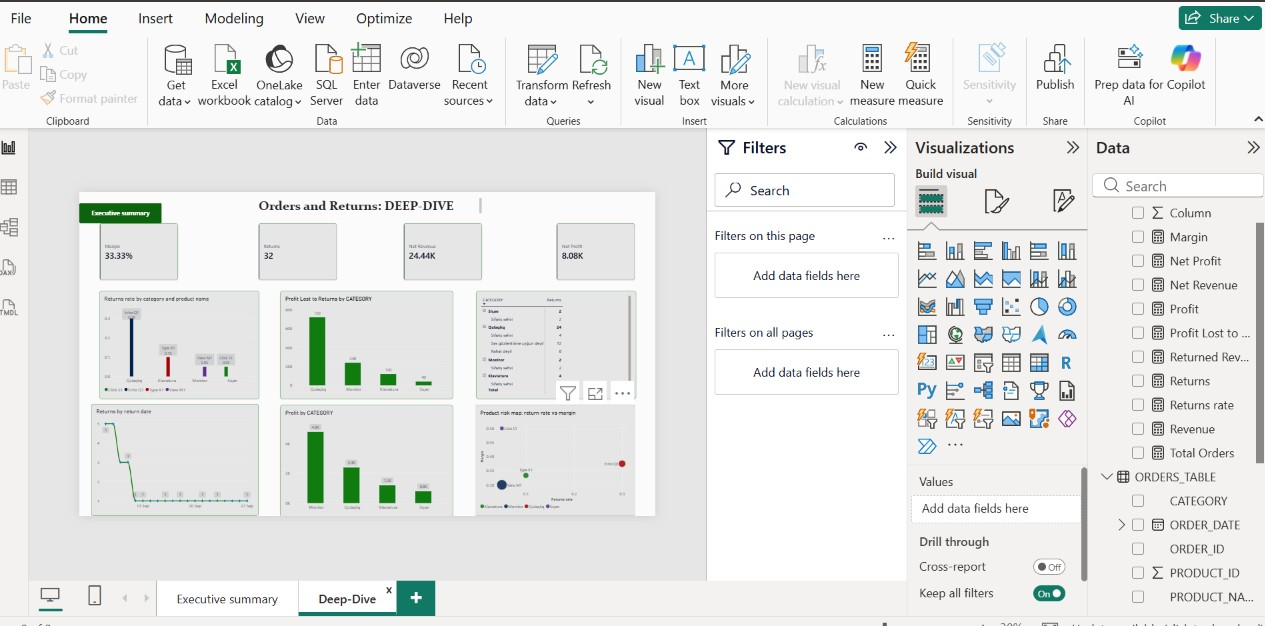

Layout of this report page (visuals, bound fields, positions):
{"tool":"powerbi","page":{"name":"Deep-Dive","canvas":[1920,1080],"ordinal":1},"visuals":[{"type":"textbox","box":[598.1,19.8,745.5,130.4],"z":0},{"type":"cardVisual","fields":{"Data":["Hesablamalar.Marja"]},"box":[65.2,104.9,263.6,192.8],"z":1},{"type":"cardVisual","fields":{"Data":["Hesablamalar.Returns"]},"box":[598.1,104.9,263.6,192.8],"z":3},{"type":"cardVisual","fields":{"Data":["Hesablamalar.Xalis gəlir"]},"box":[1080,104.9,263.6,192.8],"z":4},{"type":"cardVisual","fields":{"Data":["Hesablamalar.Xalis mənfəət"]},"box":[1590.2,104.9,263.6,192.8],"z":5},{"type":"pivotTable","fields":{"Rows":["ORDERS_TABLE.CATEGORY","returns.reason"],"Values":["Hesablamalar.Returns"]},"box":[1322.4,330.6,532.5,360],"z":6},{"type":"lineChart","title":"Returns  by return date","fields":{"Category":["returns.return_date"],"Y":["Hesablamalar.Returns"]},"box":[40,707.5,557.5,372.5],"z":7},{"type":"clusteredColumnChart","title":"Returns rate by category and product name","fields":{"Category":["ORDERS_TABLE.CATEGORY"],"Series":["ORDERS_TABLE.PRODUCT_NAME"],"Y":["Hesablamalar.Returns rate"]},"box":[65,330,532.5,360],"z":8},{"type":"columnChart","fields":{"Category":["ORDERS_TABLE.CATEGORY"],"Y":["Hesablamalar.Profit"]},"box":[670,710,575,372.5],"z":9},{"type":"columnChart","fields":{"Category":["ORDERS_TABLE.CATEGORY"],"Y":["Hesablamalar.Qaytarılmadan itirlən mənfəət"]},"box":[670,330,575,360],"z":10},{"type":"actionButton","box":[0,36.9,275,68],"z":11},{"type":"scatterChart","title":"Product risk map: return rate vs margin","fields":{"Category":["ORDERS_TABLE.PRODUCT_NAME"],"Series":["ORDERS_TABLE.CATEGORY"],"Size":["Hesablamalar.Returned Revenue"],"X":["Hesablamalar.Returns rate"],"Y":["Hesablamalar.Margin"]},"box":[1320.4,710.2,532.7,369.4],"z":12}]}

Visuals, with their boxes on the page's 1920x1080 design canvas (x1, y1, x2, y2). These are canvas units, not pixel positions in the 1265x626 screenshot, which may show the page scaled, cropped or inside an application window:
textbox: region(598, 20, 1344, 150)
cardVisual - Hesablamalar.Marja: region(65, 105, 329, 298)
cardVisual - Hesablamalar.Returns: region(598, 105, 862, 298)
cardVisual - Hesablamalar.Xalis gəlir: region(1080, 105, 1344, 298)
cardVisual - Hesablamalar.Xalis mənfəət: region(1590, 105, 1854, 298)
pivotTable - ORDERS_TABLE.CATEGORY x returns.reason: region(1322, 331, 1855, 691)
"Returns  by return date" lineChart: region(40, 708, 598, 1080)
"Returns rate by category and product name" clusteredColumnChart: region(65, 330, 598, 690)
columnChart - ORDERS_TABLE.CATEGORY x Hesablamalar.Profit: region(670, 710, 1245, 1082)
columnChart - ORDERS_TABLE.CATEGORY x Hesablamalar.Qaytarılmadan itirlən mənfəət: region(670, 330, 1245, 690)
actionButton: region(0, 37, 275, 105)
"Product risk map: return rate vs margin" scatterChart: region(1320, 710, 1853, 1080)
